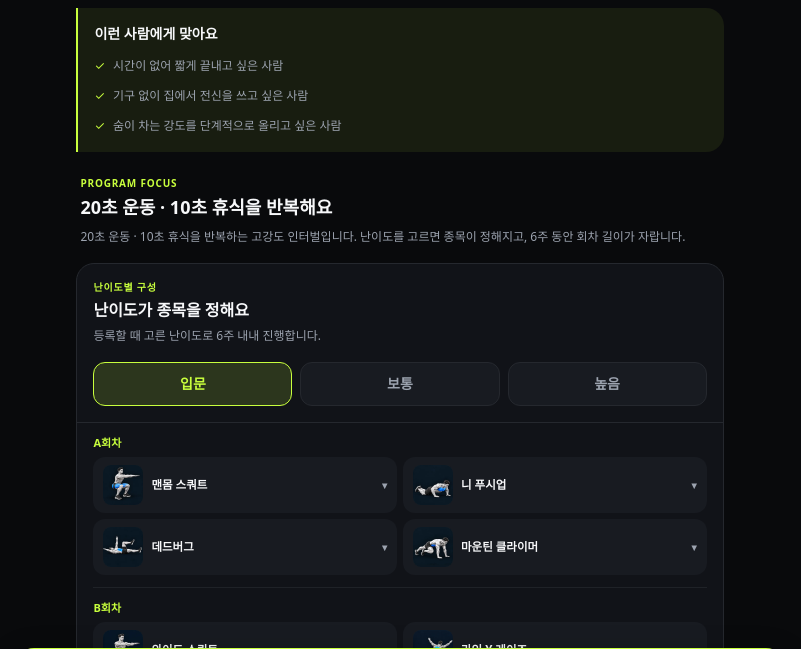
Test: IntervalProgramDetail — 종목 설명 (2026-08-13) › 난이도를 바꾸면 그 난이도의 종목 설명이 열린다
(page scrolled)
Click the tab "높음" at x=607, y=384, box [508, 362, 706, 406]
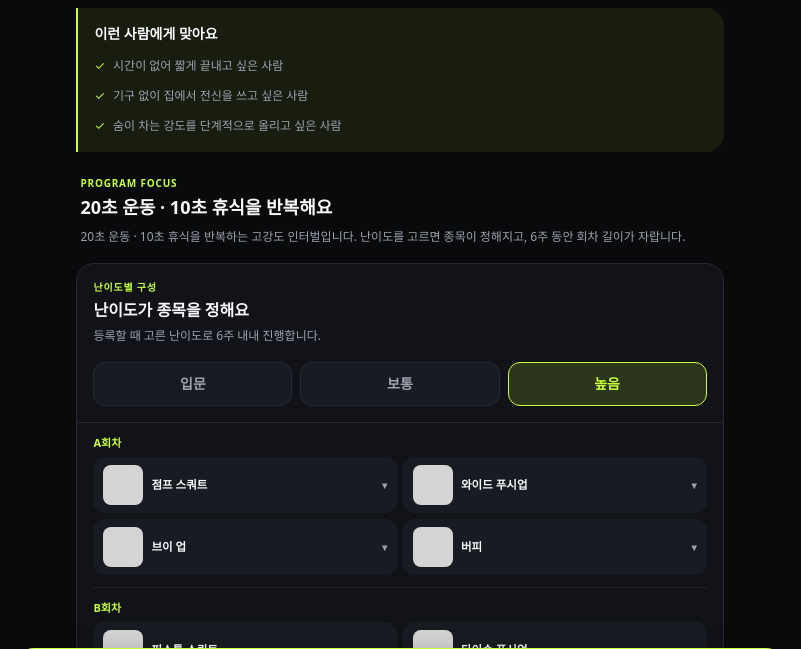
Click the button with aria-label "버피 설명 보기" at x=433, y=547, box [403, 519, 707, 575]
(page scrolled)
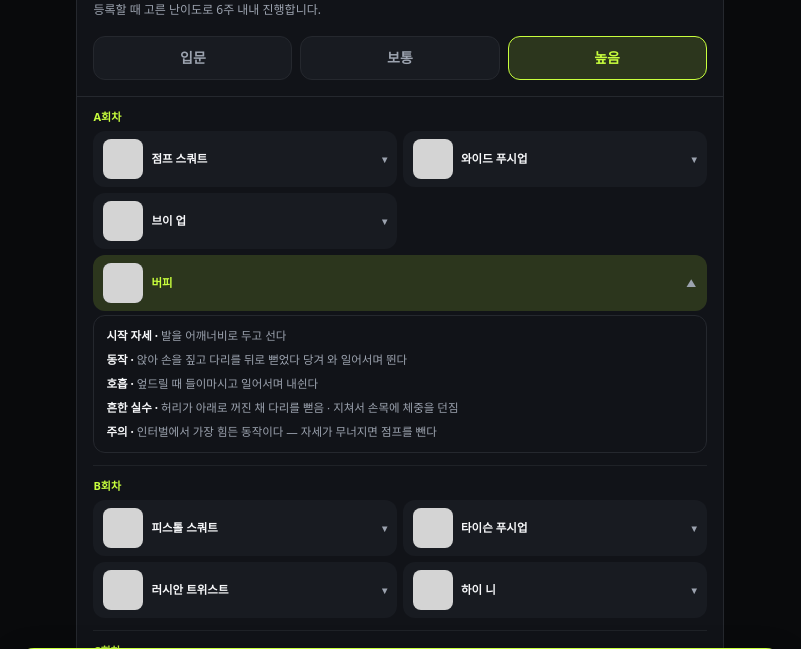
Expected: the element with test id "interval-exercise-guide" shows "다리를 뒤로 뻗었다", [137, 352, 407, 367]
